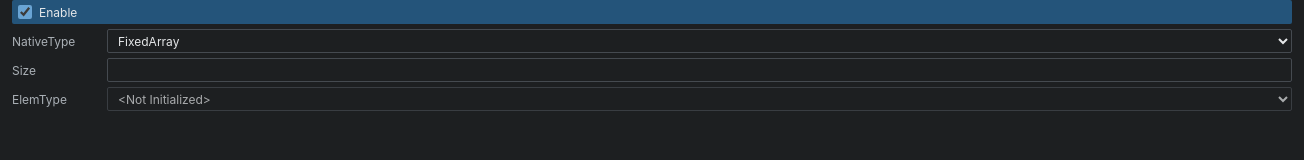
MarshalTypeEditor › needs a size before a fixed array says what its elements are
Check: the dropdown named "ElemType" is disabled, box [107, 87, 1292, 111]
Type "4" into the field named "Size" at (700, 70), box [107, 58, 1292, 82]
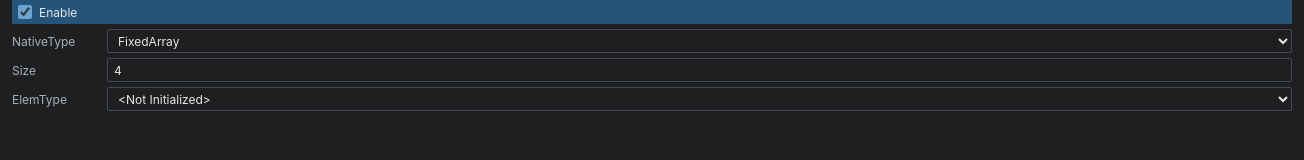
Check: the dropdown named "ElemType" is enabled, box [107, 87, 1292, 111]
